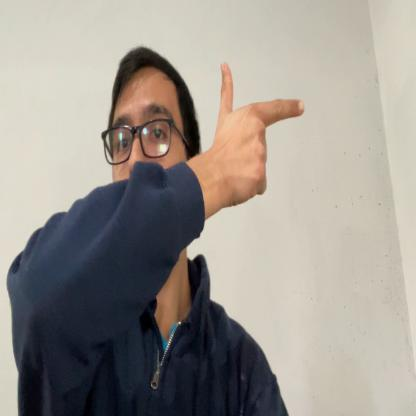G: (215, 59, 305, 207)
